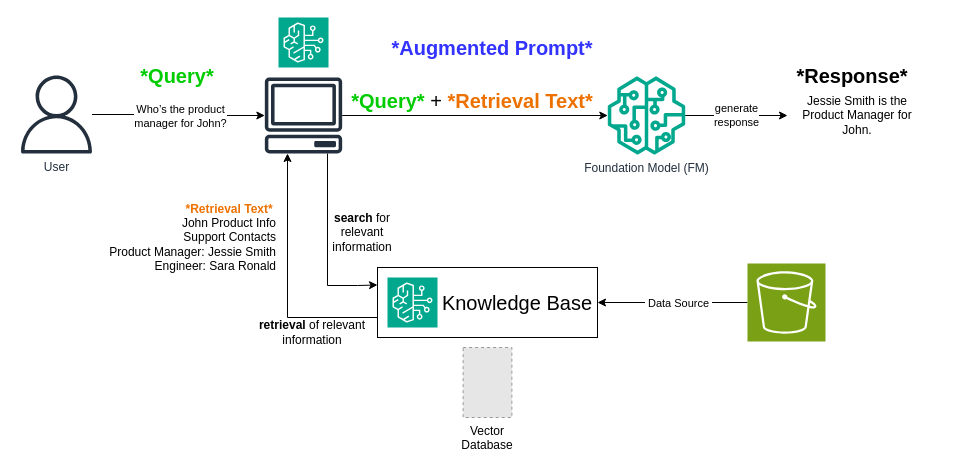
The diagram is 974 pixels wide and 470 high, and some of its shapes have lost their labels. Grey dashed boxes stand in for pictures. The shapes that lost their labels are listed below. From the top down, each one's centre as x and y in pixels, then its label:
At [303,115]: "Prompt".
At [786,302]: "Amazon S3".
